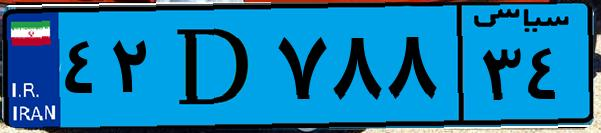2: (110, 28, 158, 98)
3: (475, 38, 525, 113)
4: (57, 26, 110, 100), (525, 38, 570, 115)
7: (270, 28, 330, 110)
8: (385, 28, 445, 110), (330, 28, 385, 110)
D: (158, 12, 270, 120)
